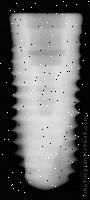DENTSPLY: (9, 13, 83, 191)
